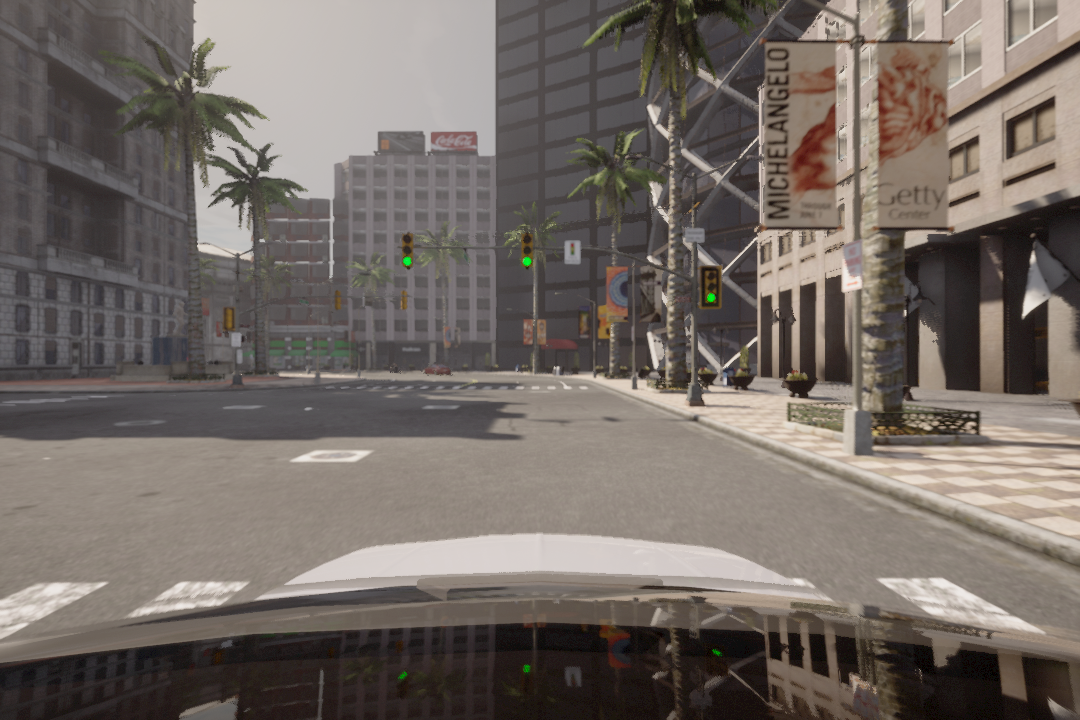TrafficLight: (699, 265, 726, 306), (518, 232, 539, 271), (403, 231, 417, 269)
